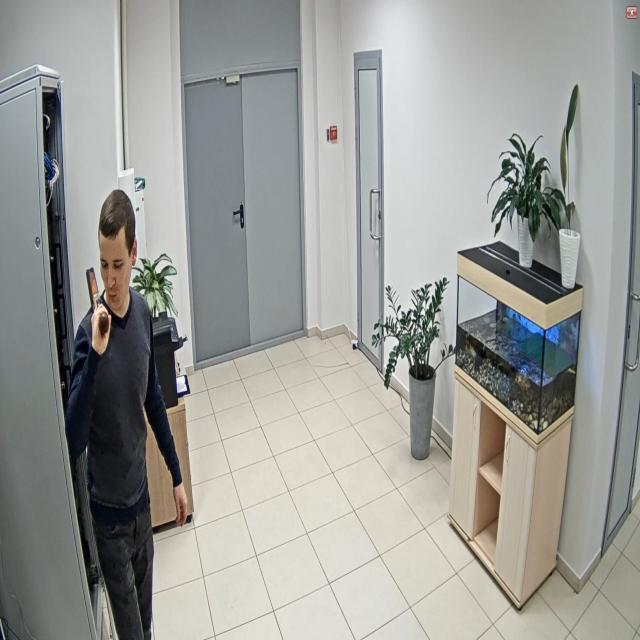-Gun: (86, 266, 109, 330)
